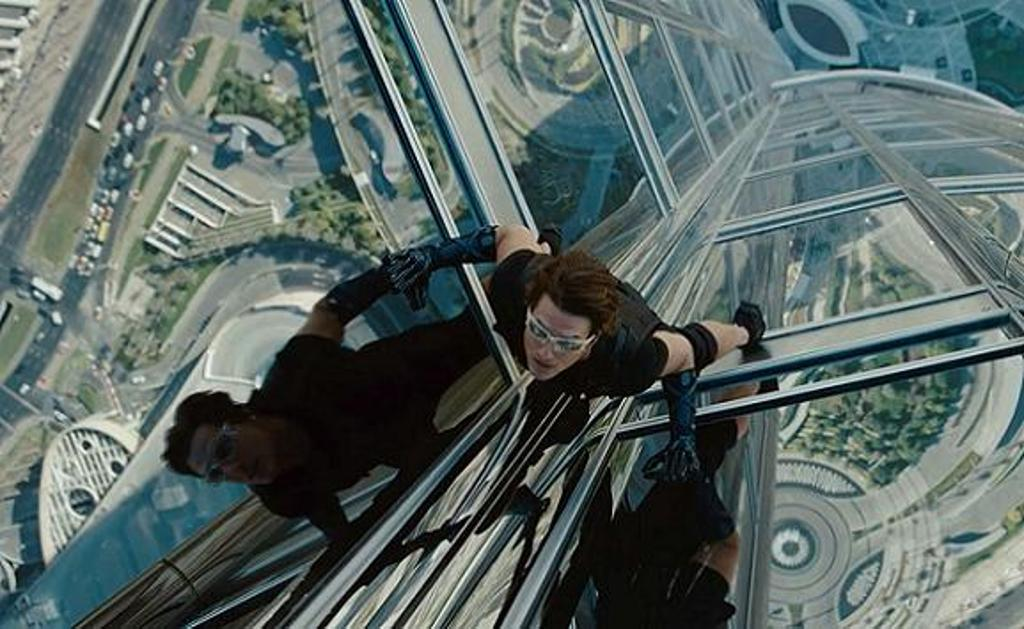face: (190, 428, 276, 488), (520, 306, 580, 382)
